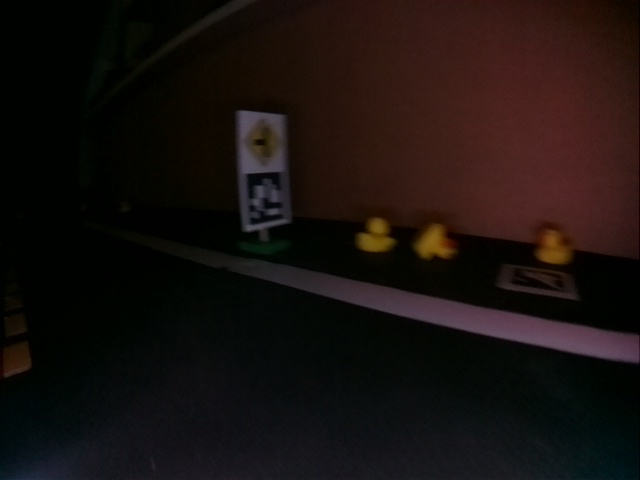Duckie: (415, 225, 453, 261), (356, 216, 388, 250), (538, 229, 571, 261)
Intersection sign: (242, 117, 283, 166)
QR code: (502, 266, 575, 300), (242, 173, 285, 227)
